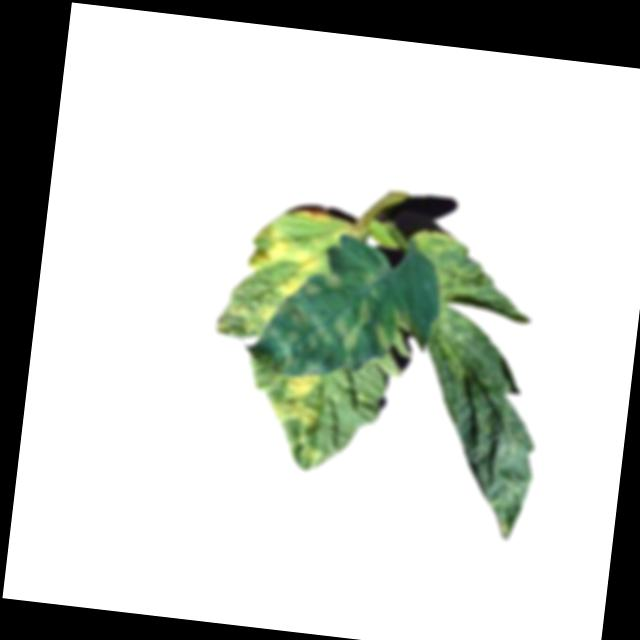Leaf_Mold: (245, 263, 383, 384), (242, 219, 329, 305), (267, 372, 328, 454), (290, 205, 334, 229)
